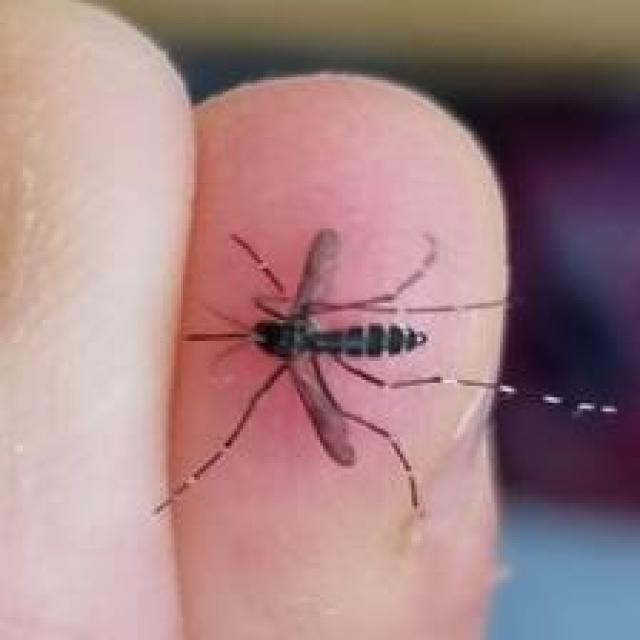Aedes albopictus: (150, 226, 619, 520)
